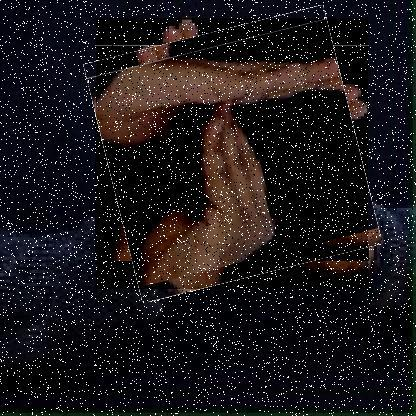Z: (96, 18, 369, 290)
